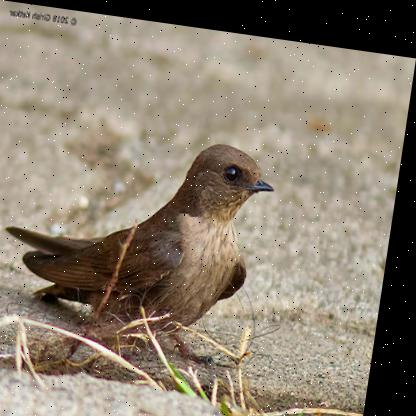Burung: (4, 115, 283, 329)
